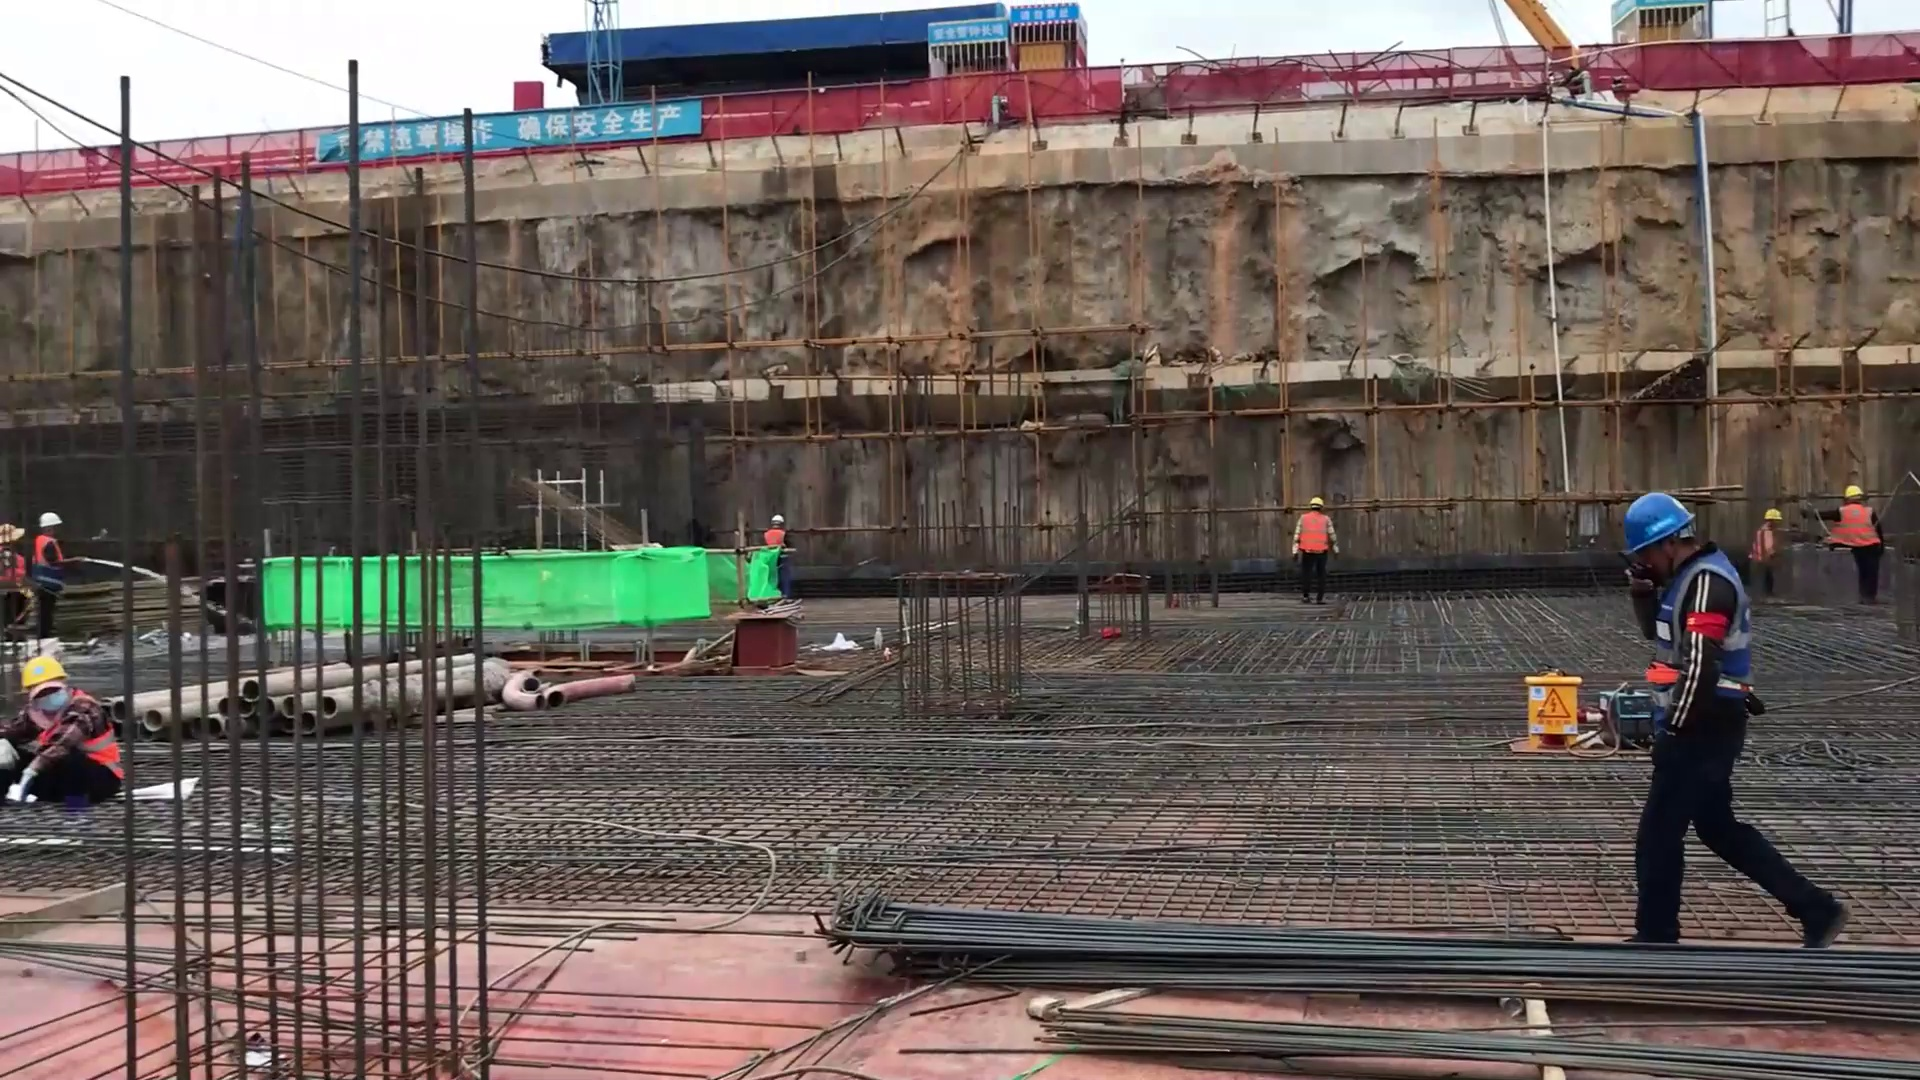helmet: (1614, 491, 1699, 559)
person: (1616, 487, 1855, 954), (7, 658, 128, 813), (1834, 477, 1885, 614), (1290, 494, 1343, 610), (30, 510, 66, 649), (1744, 505, 1785, 606), (757, 508, 792, 591), (6, 519, 27, 641)
vest: (1638, 549, 1750, 737), (1831, 503, 1872, 563), (1295, 510, 1332, 563), (763, 532, 787, 558)
